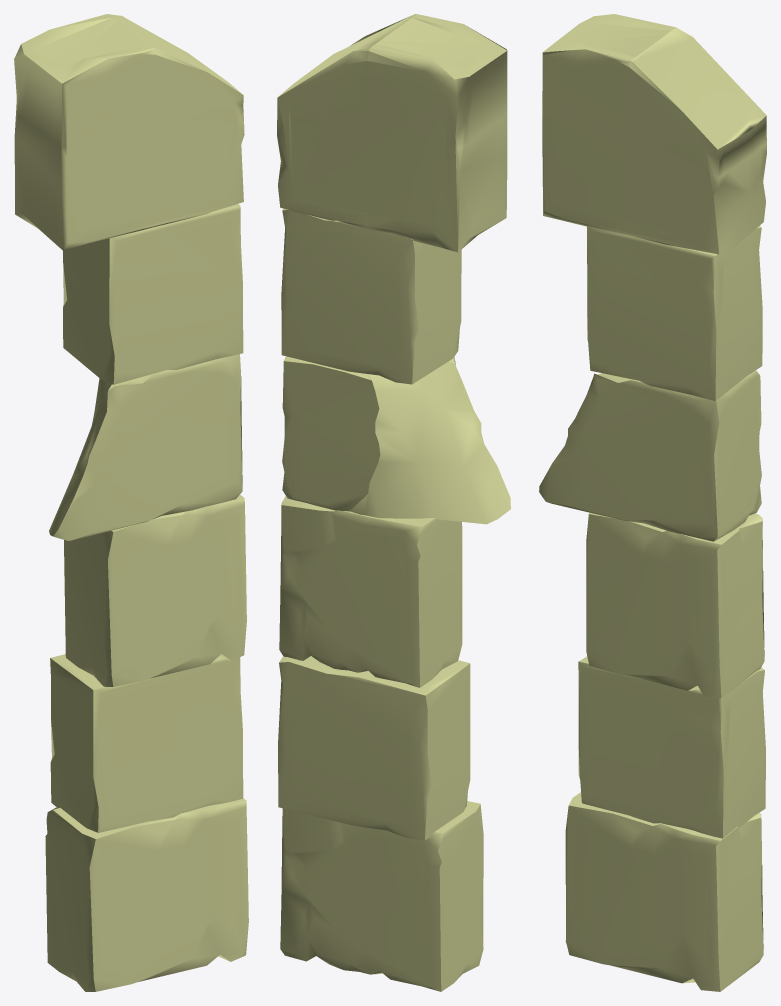
File: stone_element_20_lintel_02.fbx
3 renders of one model, left to right at view 1: azimuth 30°, elevation 25°; view 2: azimuth 150°, elevation 25°; view 3: azimuth 330°, elevation 25°, orthographic. The views are drawn at different scales.
Visible parts, largest first — view 1: stone_element_20_lintel_02_LOD0; view 2: stone_element_20_lintel_02_LOD0; view 3: stone_element_20_lintel_02_LOD0.
Boxes of the visible parts, <box> form: stone_element_20_lintel_02_LOD0: <box>14,14,248,991</box>; stone_element_20_lintel_02_LOD0: <box>277,14,510,991</box>; stone_element_20_lintel_02_LOD0: <box>539,14,766,991</box>.
Size of what is drawn, in the model's own units: 71.38 by 333 by 33.98.
